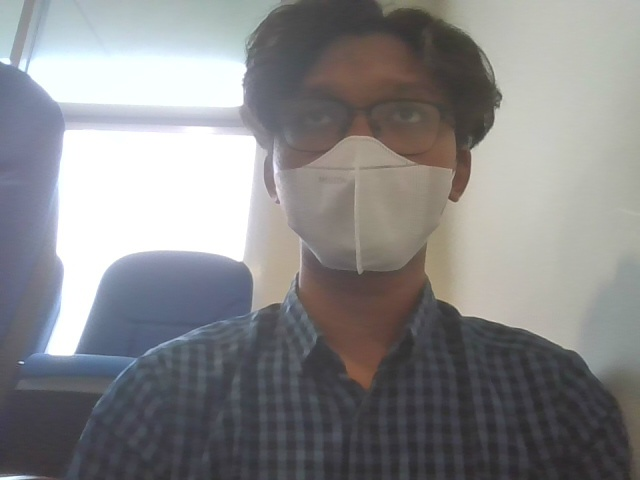Awake: (249, 5, 500, 400)
